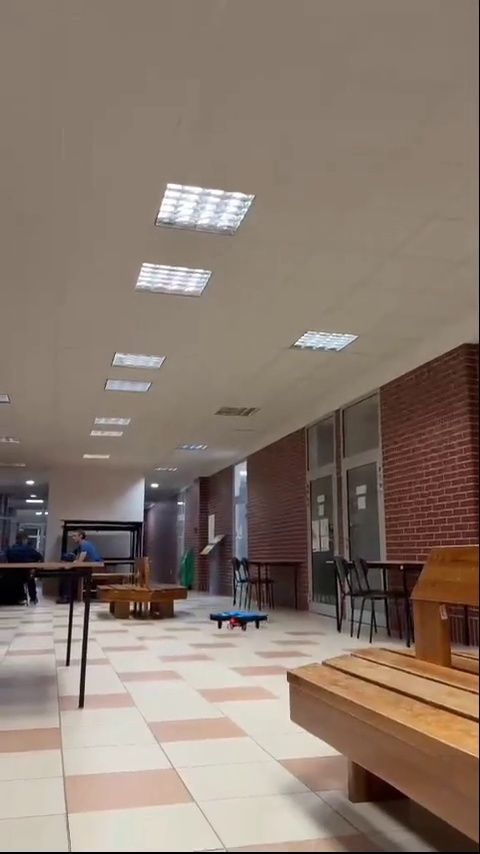drone: (212, 608, 267, 635)
no vest: (65, 521, 104, 605), (6, 524, 44, 598)
